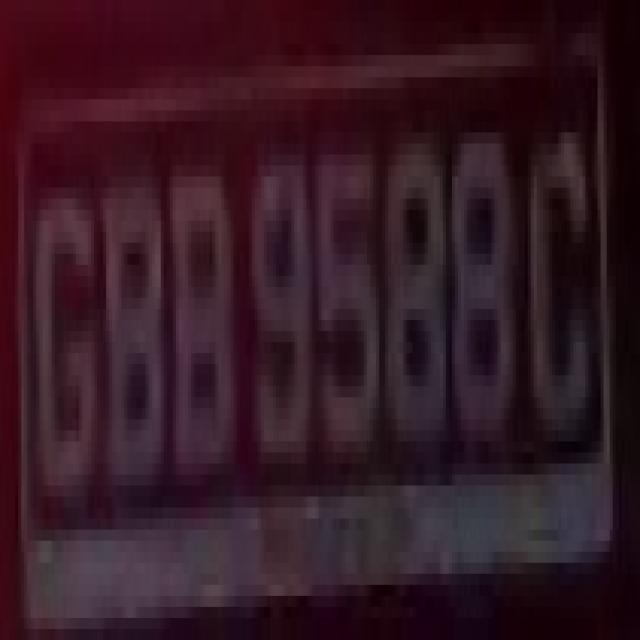5: (310, 100, 380, 486)
8: (446, 100, 525, 486), (373, 132, 449, 474)
9: (242, 144, 312, 496)
B: (94, 166, 173, 497), (167, 132, 230, 530)
C: (528, 66, 600, 486)
G: (24, 166, 103, 518)
